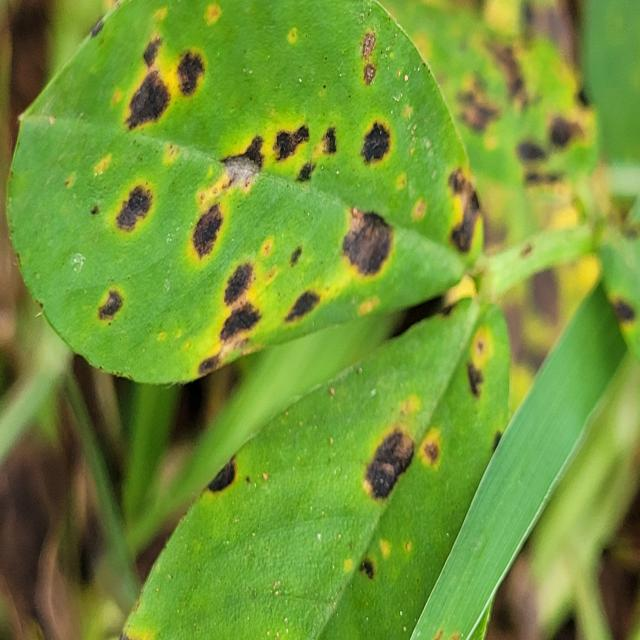Ground nut_tikka leaf spot: (4, 1, 488, 384)
